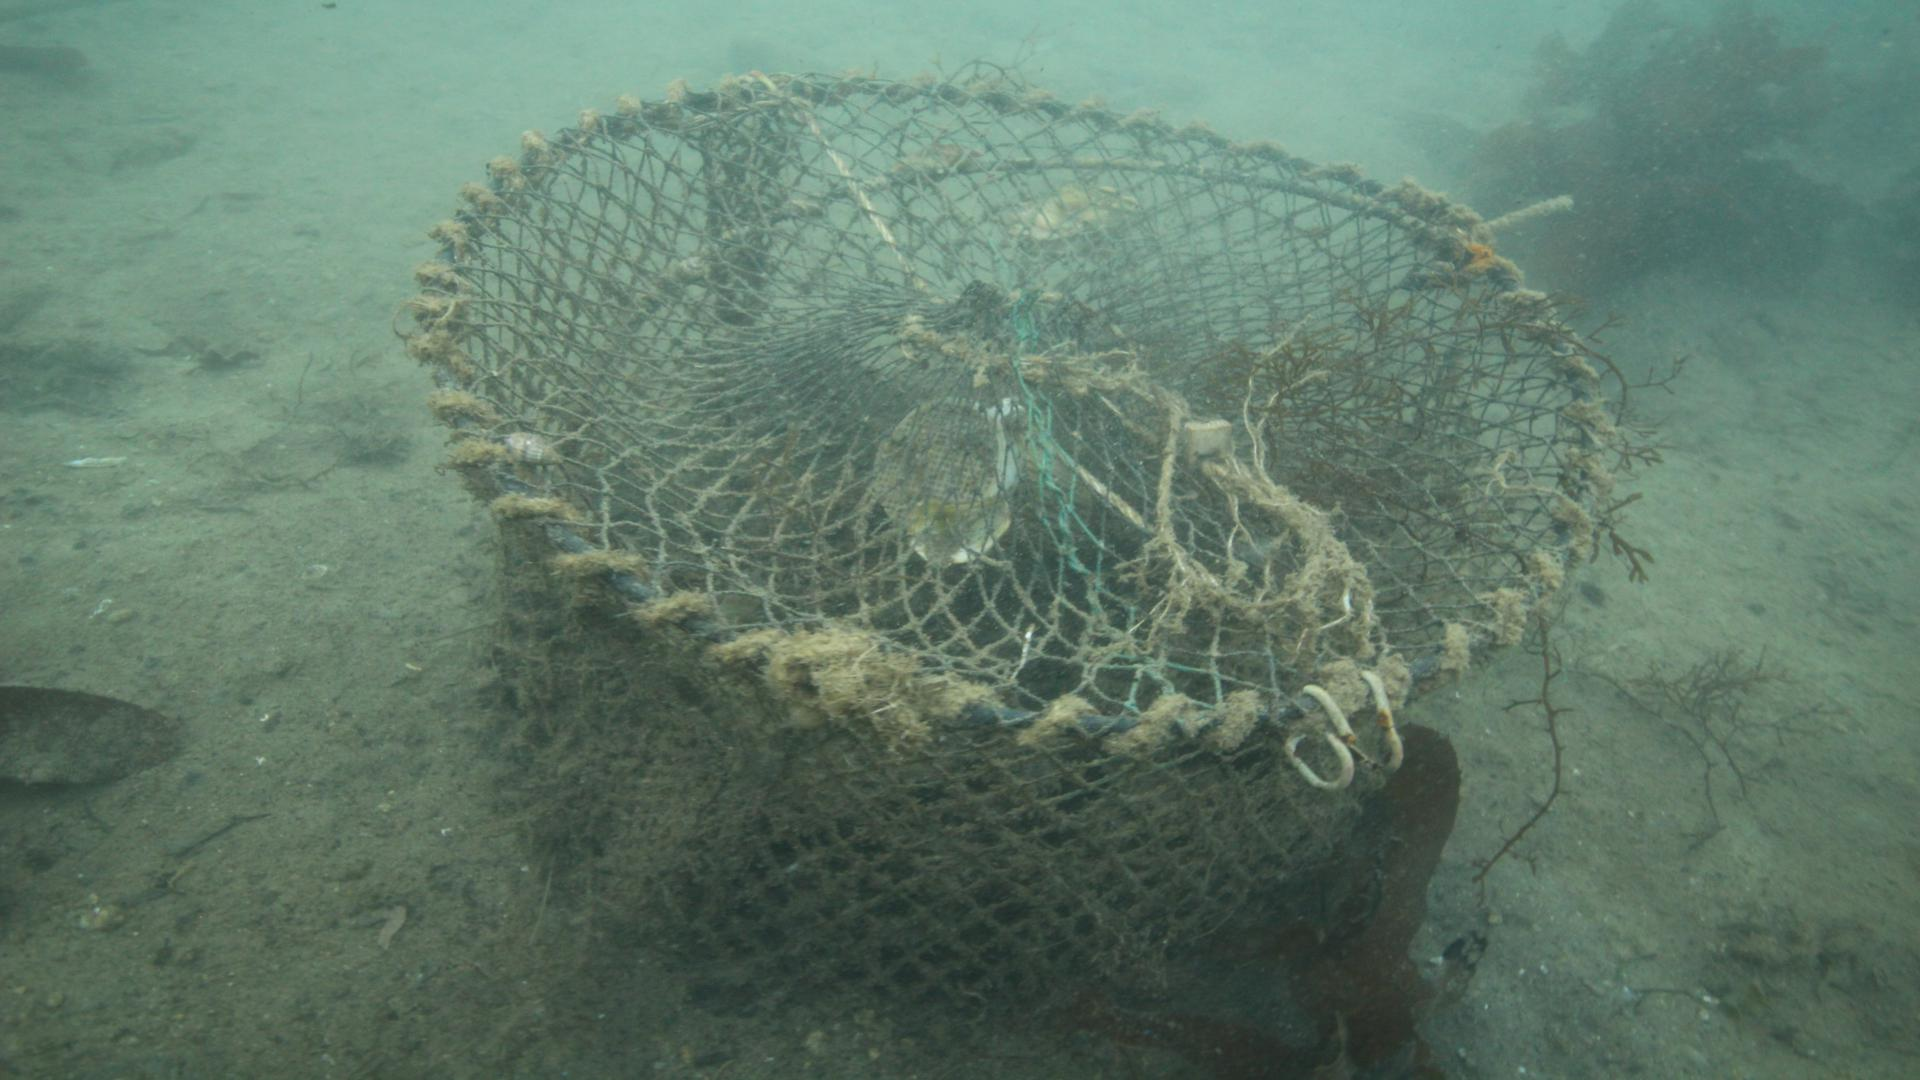circular fish trap: (406, 69, 1614, 1017)
rope: (1462, 191, 1575, 235)
